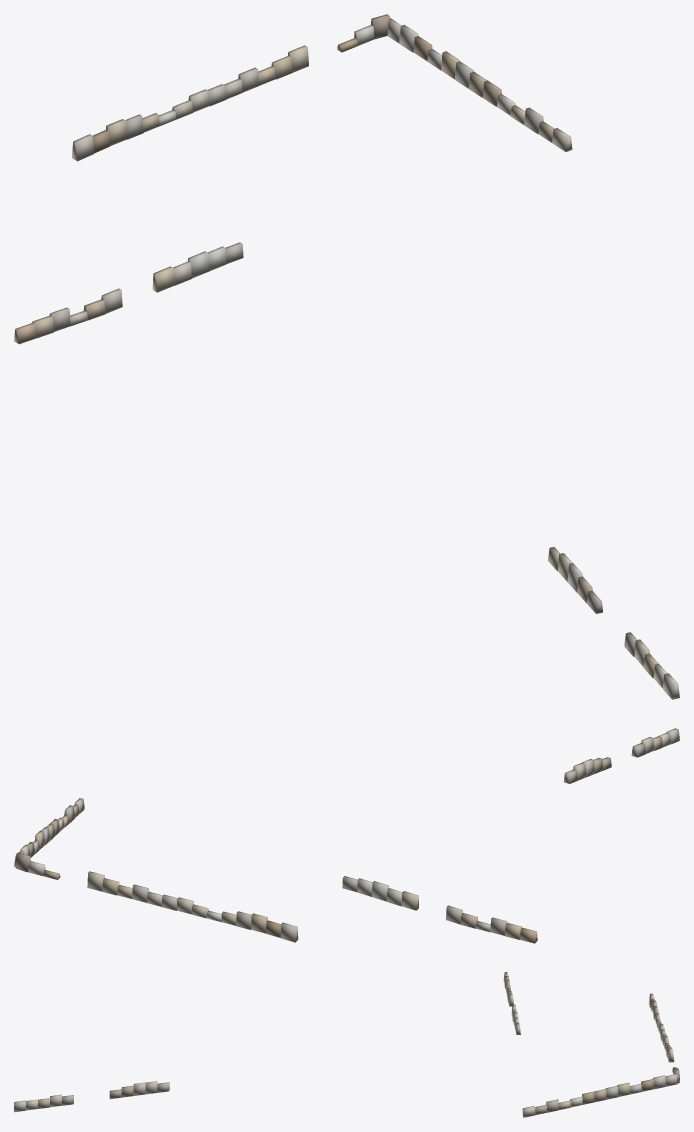
The model's file is farm_7_36_collision.glb.
The picture shows the model from 3 angles, top to bottom: view 1: azimuth 30°, elevation 25°; view 2: azimuth 150°, elevation 25°; view 3: azimuth 270°, elevation 25°; orthographic projection. The views are drawn at different scales.
Parts seen in each view (by area): view 1: geometry_0; view 2: geometry_0; view 3: geometry_0.
Boxes of the visible parts, bbox=[...] form: geometry_0: bbox=[14, 14, 679, 699]; geometry_0: bbox=[14, 728, 679, 943]; geometry_0: bbox=[14, 972, 679, 1117].
Bounding box in the file's own units: 50.27 × 16.97 × 86.65.
